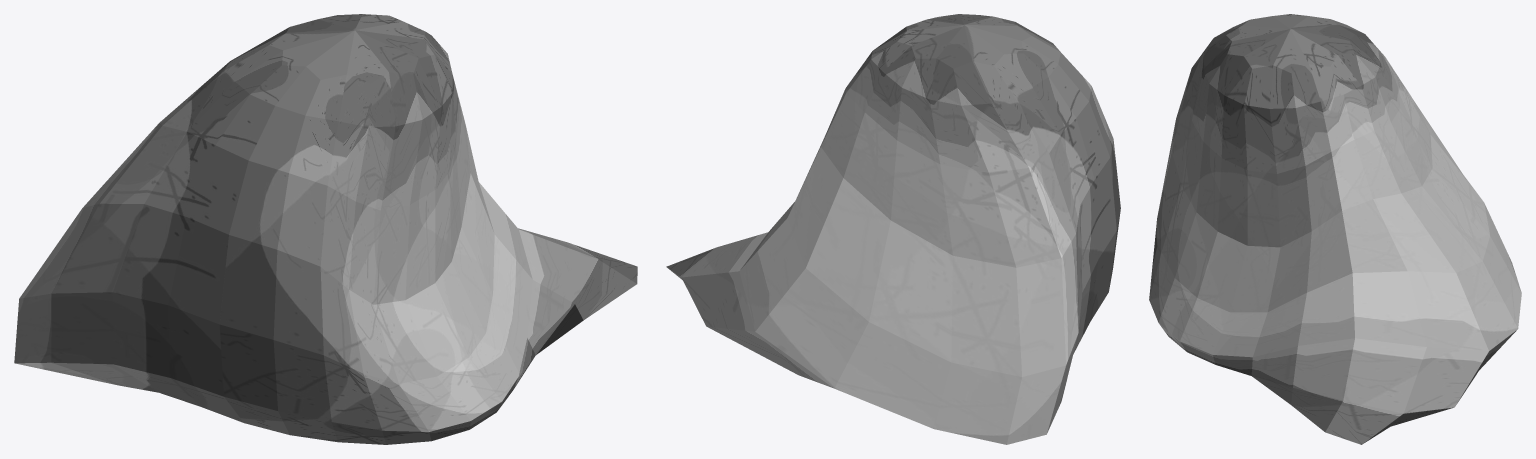
File: Rock 3-3.fbx
3 views of the same model, side by side, from view 1: azimuth 30°, elevation 25°; view 2: azimuth 150°, elevation 25°; view 3: azimuth 270°, elevation 25° (orthographic). The views are drawn at different scales.
Visible parts, largest first — view 1: Sphere; view 2: Sphere; view 3: Sphere.
Boxes of the visible parts, left/top/right/bottom form: Sphere: left=14, top=14, right=637, bottom=444; Sphere: left=666, top=14, right=1120, bottom=444; Sphere: left=1149, top=14, right=1521, bottom=444.
Size of the model in its own units: 289 by 191 by 204.
